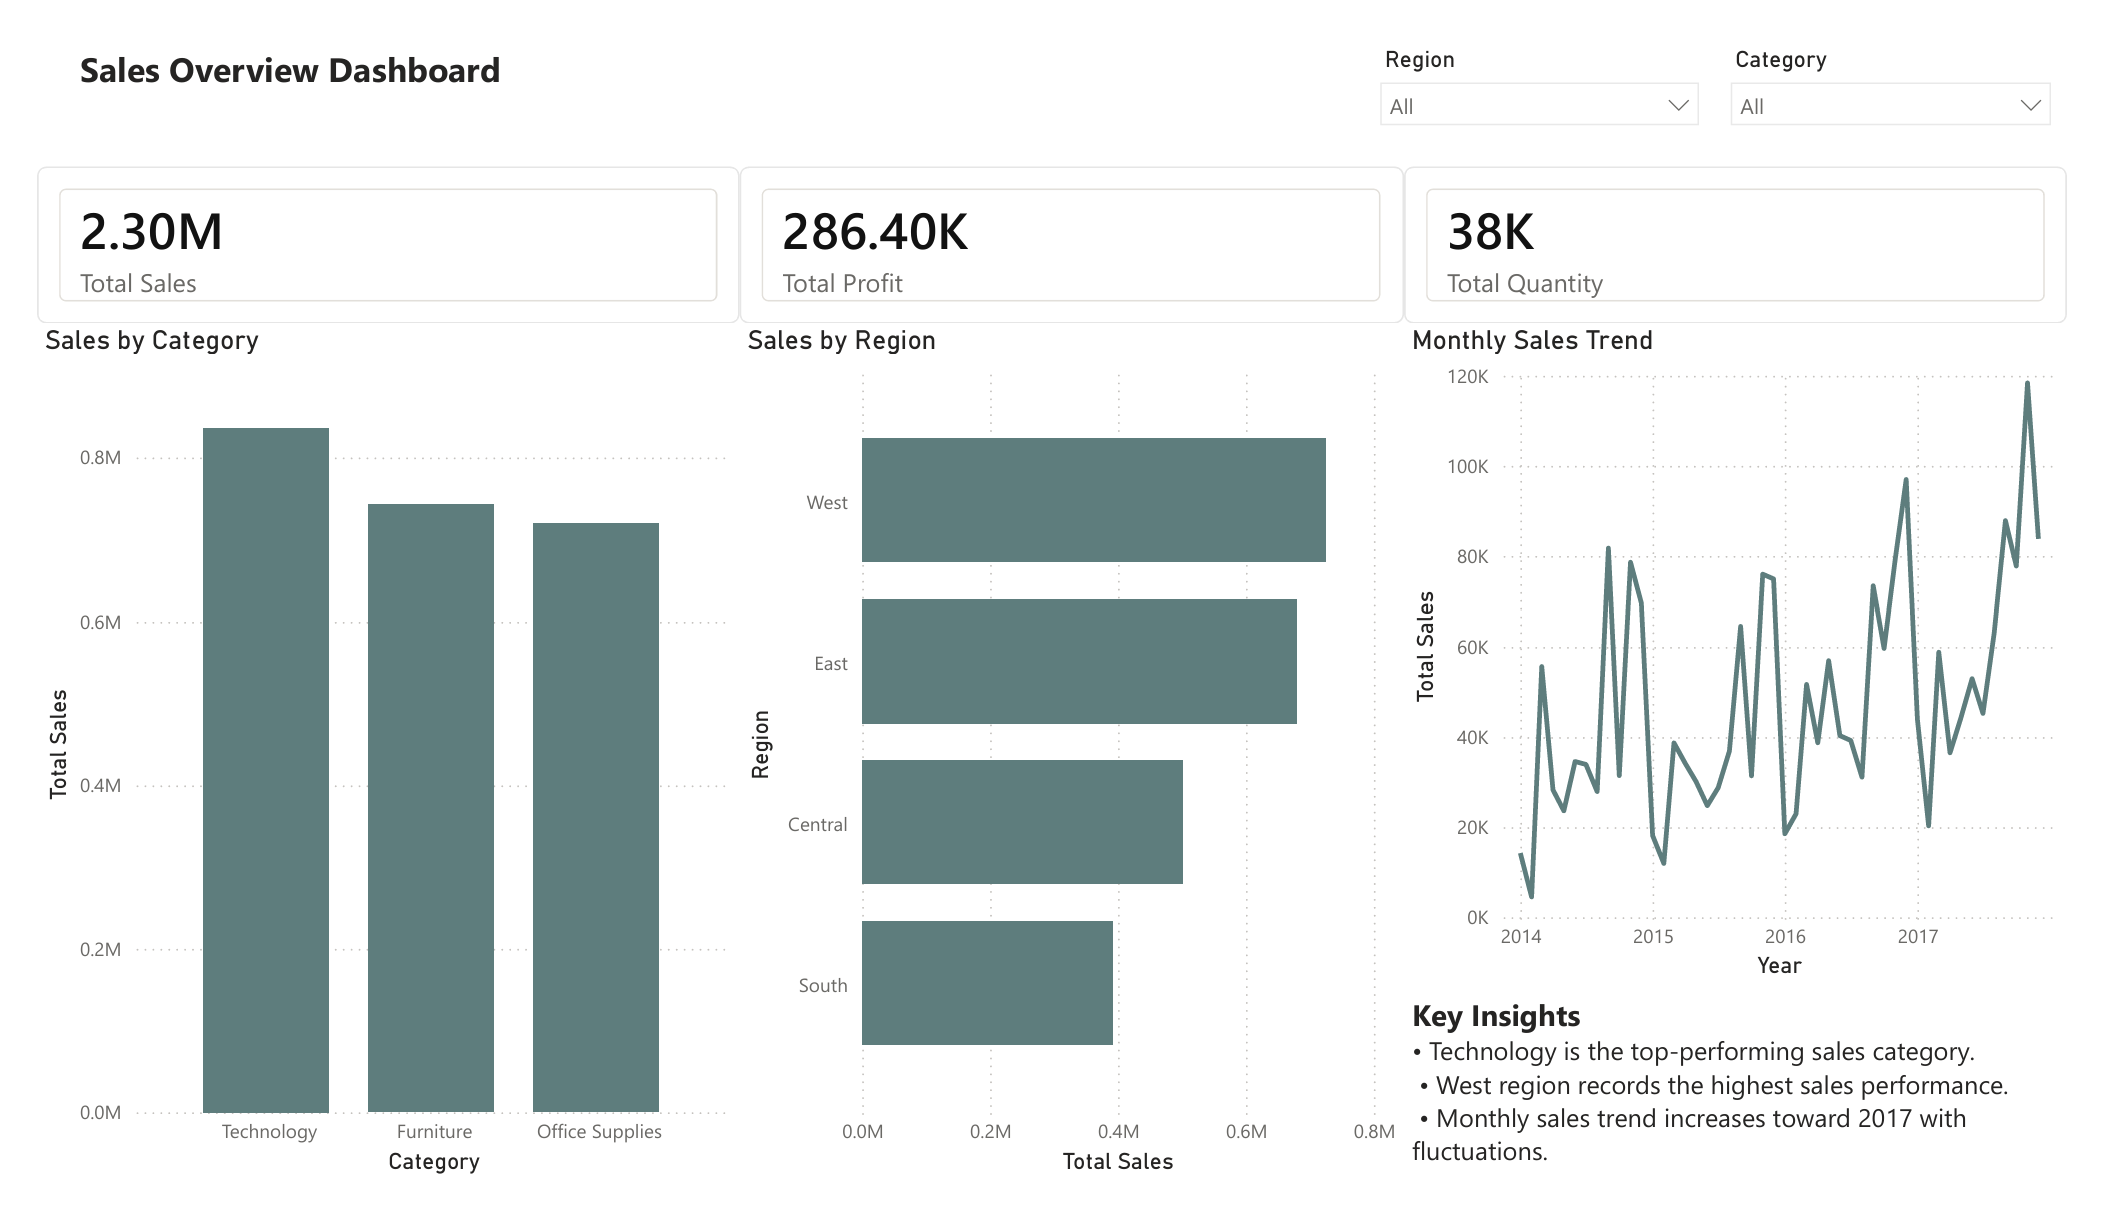

The page's visual inventory and layout, read from the dashboard file:
{"tool":"powerbi","page":{"name":"Sales Overview","canvas":[1280,720],"ordinal":0},"visuals":[{"type":"textbox","box":[21.7,0,1091.7,38.3],"z":0},{"type":"cardVisual","fields":{"Data":["Sum(Orders.Sales)"]},"box":[0,80.7,443.3,99.3],"z":1000},{"type":"cardVisual","fields":{"Data":["Sum(Orders.Profit)"]},"box":[443.3,80.7,418.7,99.3],"z":2000},{"type":"cardVisual","fields":{"Data":["Sum(Orders.Quantity)"]},"box":[862,80.7,418,99.3],"z":3000},{"type":"clusteredColumnChart","title":" Sales by Category","fields":{"Category":["Orders.Category"],"Y":["Sum(Orders.Sales)"]},"box":[0,180,443.3,540],"z":4000},{"type":"clusteredBarChart","title":" Sales by Region","fields":{"Category":["Orders.Region"],"Y":["Sum(Orders.Sales)"]},"box":[443.3,180,418.3,540],"z":5000},{"type":"lineChart","title":"Monthly Sales Trend","fields":{"Category":["Orders.Order Date.Variation.Date Hierarchy.Year","Orders.Order Date.Variation.Date Hierarchy.Month"],"Y":["Sum(Orders.Sales)"]},"box":[861.7,180,418.3,416.7],"z":6000},{"type":"slicer","fields":{"Values":["Orders.Region"]},"box":[836.7,0,221.7,63.3],"z":7000},{"type":"slicer","fields":{"Values":["Orders.Category"]},"box":[1058.3,0,221.7,63.3],"z":8000},{"type":"textbox","box":[861.7,596.7,418.3,123.3],"z":9000}]}

Visuals, with their boxes in screenshot pixels (x1, y1, x2, y2), scaled from the page's 1280x720 canvas onto the 2103x1215 screenshot:
textbox: x1=36, y1=0, x2=1829, y2=65
cardVisual - Sum(Orders.Sales): x1=0, y1=136, x2=728, y2=304
cardVisual - Sum(Orders.Profit): x1=728, y1=136, x2=1416, y2=304
cardVisual - Sum(Orders.Quantity): x1=1416, y1=136, x2=2102, y2=304
" Sales by Category" clusteredColumnChart: x1=0, y1=304, x2=728, y2=1214
" Sales by Region" clusteredBarChart: x1=728, y1=304, x2=1416, y2=1214
"Monthly Sales Trend" lineChart: x1=1416, y1=304, x2=2102, y2=1007
slicer - Orders.Region: x1=1375, y1=0, x2=1739, y2=107
slicer - Orders.Category: x1=1739, y1=0, x2=2102, y2=107
textbox: x1=1416, y1=1007, x2=2102, y2=1214
